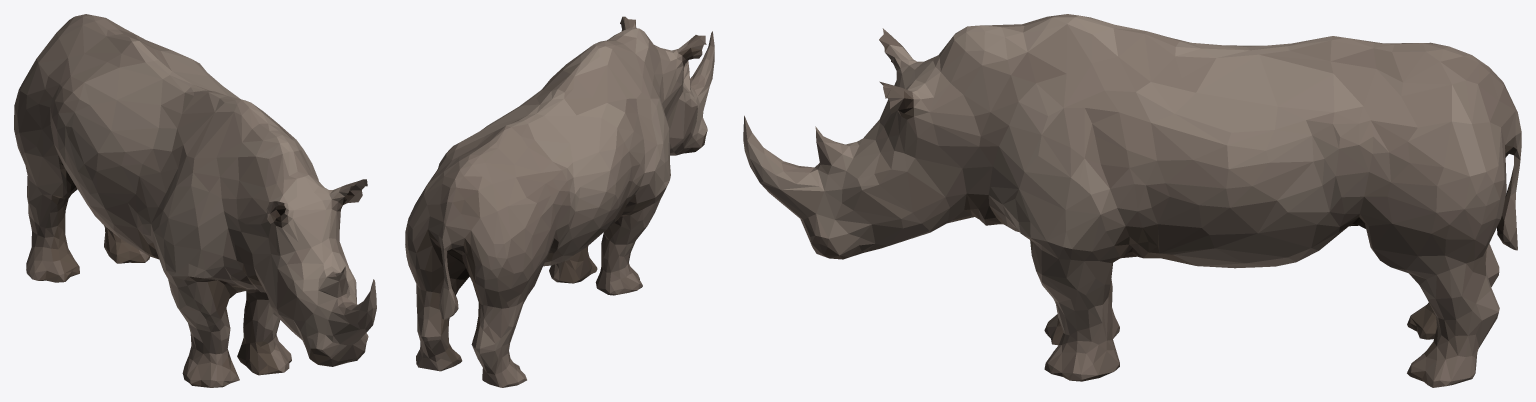
File: wild-rhino.glb
3 views of the same model, side by side, from view 1: azimuth 30°, elevation 25°; view 2: azimuth 150°, elevation 25°; view 3: azimuth 270°, elevation 25° (orthographic). The views are drawn at different scales.
Parts seen in each view (by area): view 1: low-poly-rhino; view 2: low-poly-rhino; view 3: low-poly-rhino.
Part boxes in pixels (x1,y1,x2,y2): low-poly-rhino: [14, 14, 376, 387]; low-poly-rhino: [405, 16, 714, 387]; low-poly-rhino: [743, 14, 1521, 387].
Bounding box in the file's own units: 1.16 × 1.81 × 3.8.
1 material, 1 textured.
